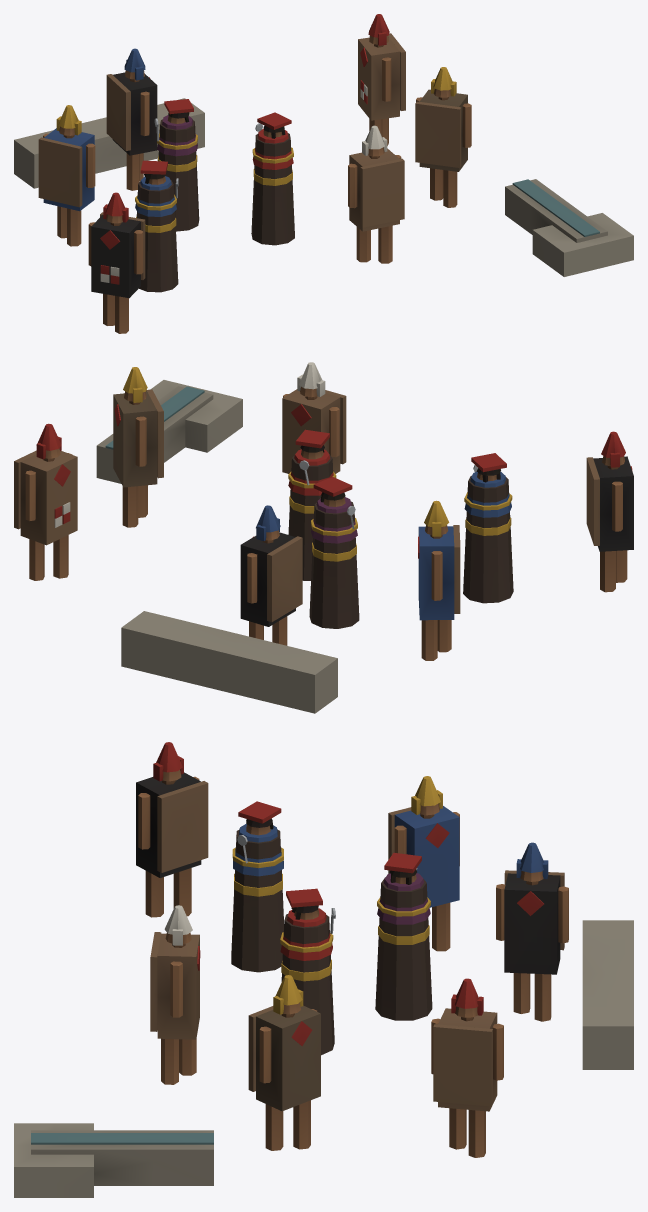
The model's file is crowd.glb.
3 renders of one model, top to bottom at view 1: azimuth 30°, elevation 25°; view 2: azimuth 150°, elevation 25°; view 3: azimuth 270°, elevation 25°, orthographic. The views are drawn at different scales.
Parts seen in each view (by area): view 1: base; view 2: base; view 3: base.
Part boxes in pixels (x1,y1,x2,y2): base: (14, 14, 633, 333); base: (14, 362, 633, 713); base: (14, 742, 633, 1197).
Size of the model in its own units: 6.16 by 1.64 by 5.42.
